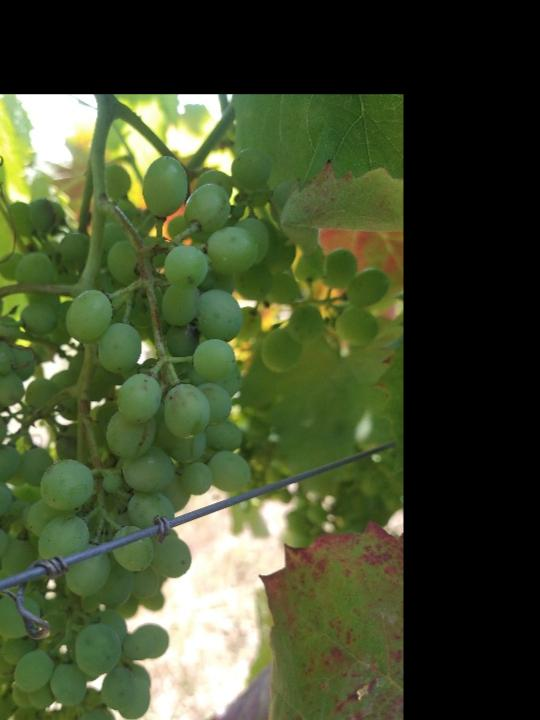grape: (0, 151, 394, 720)
